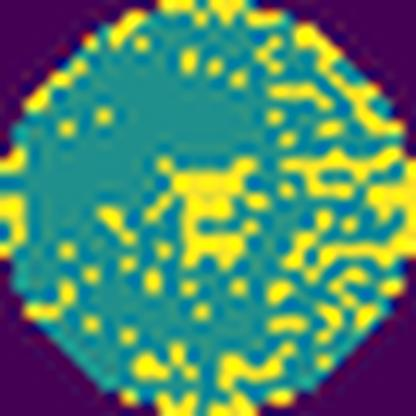Center: (146, 153, 272, 273)
